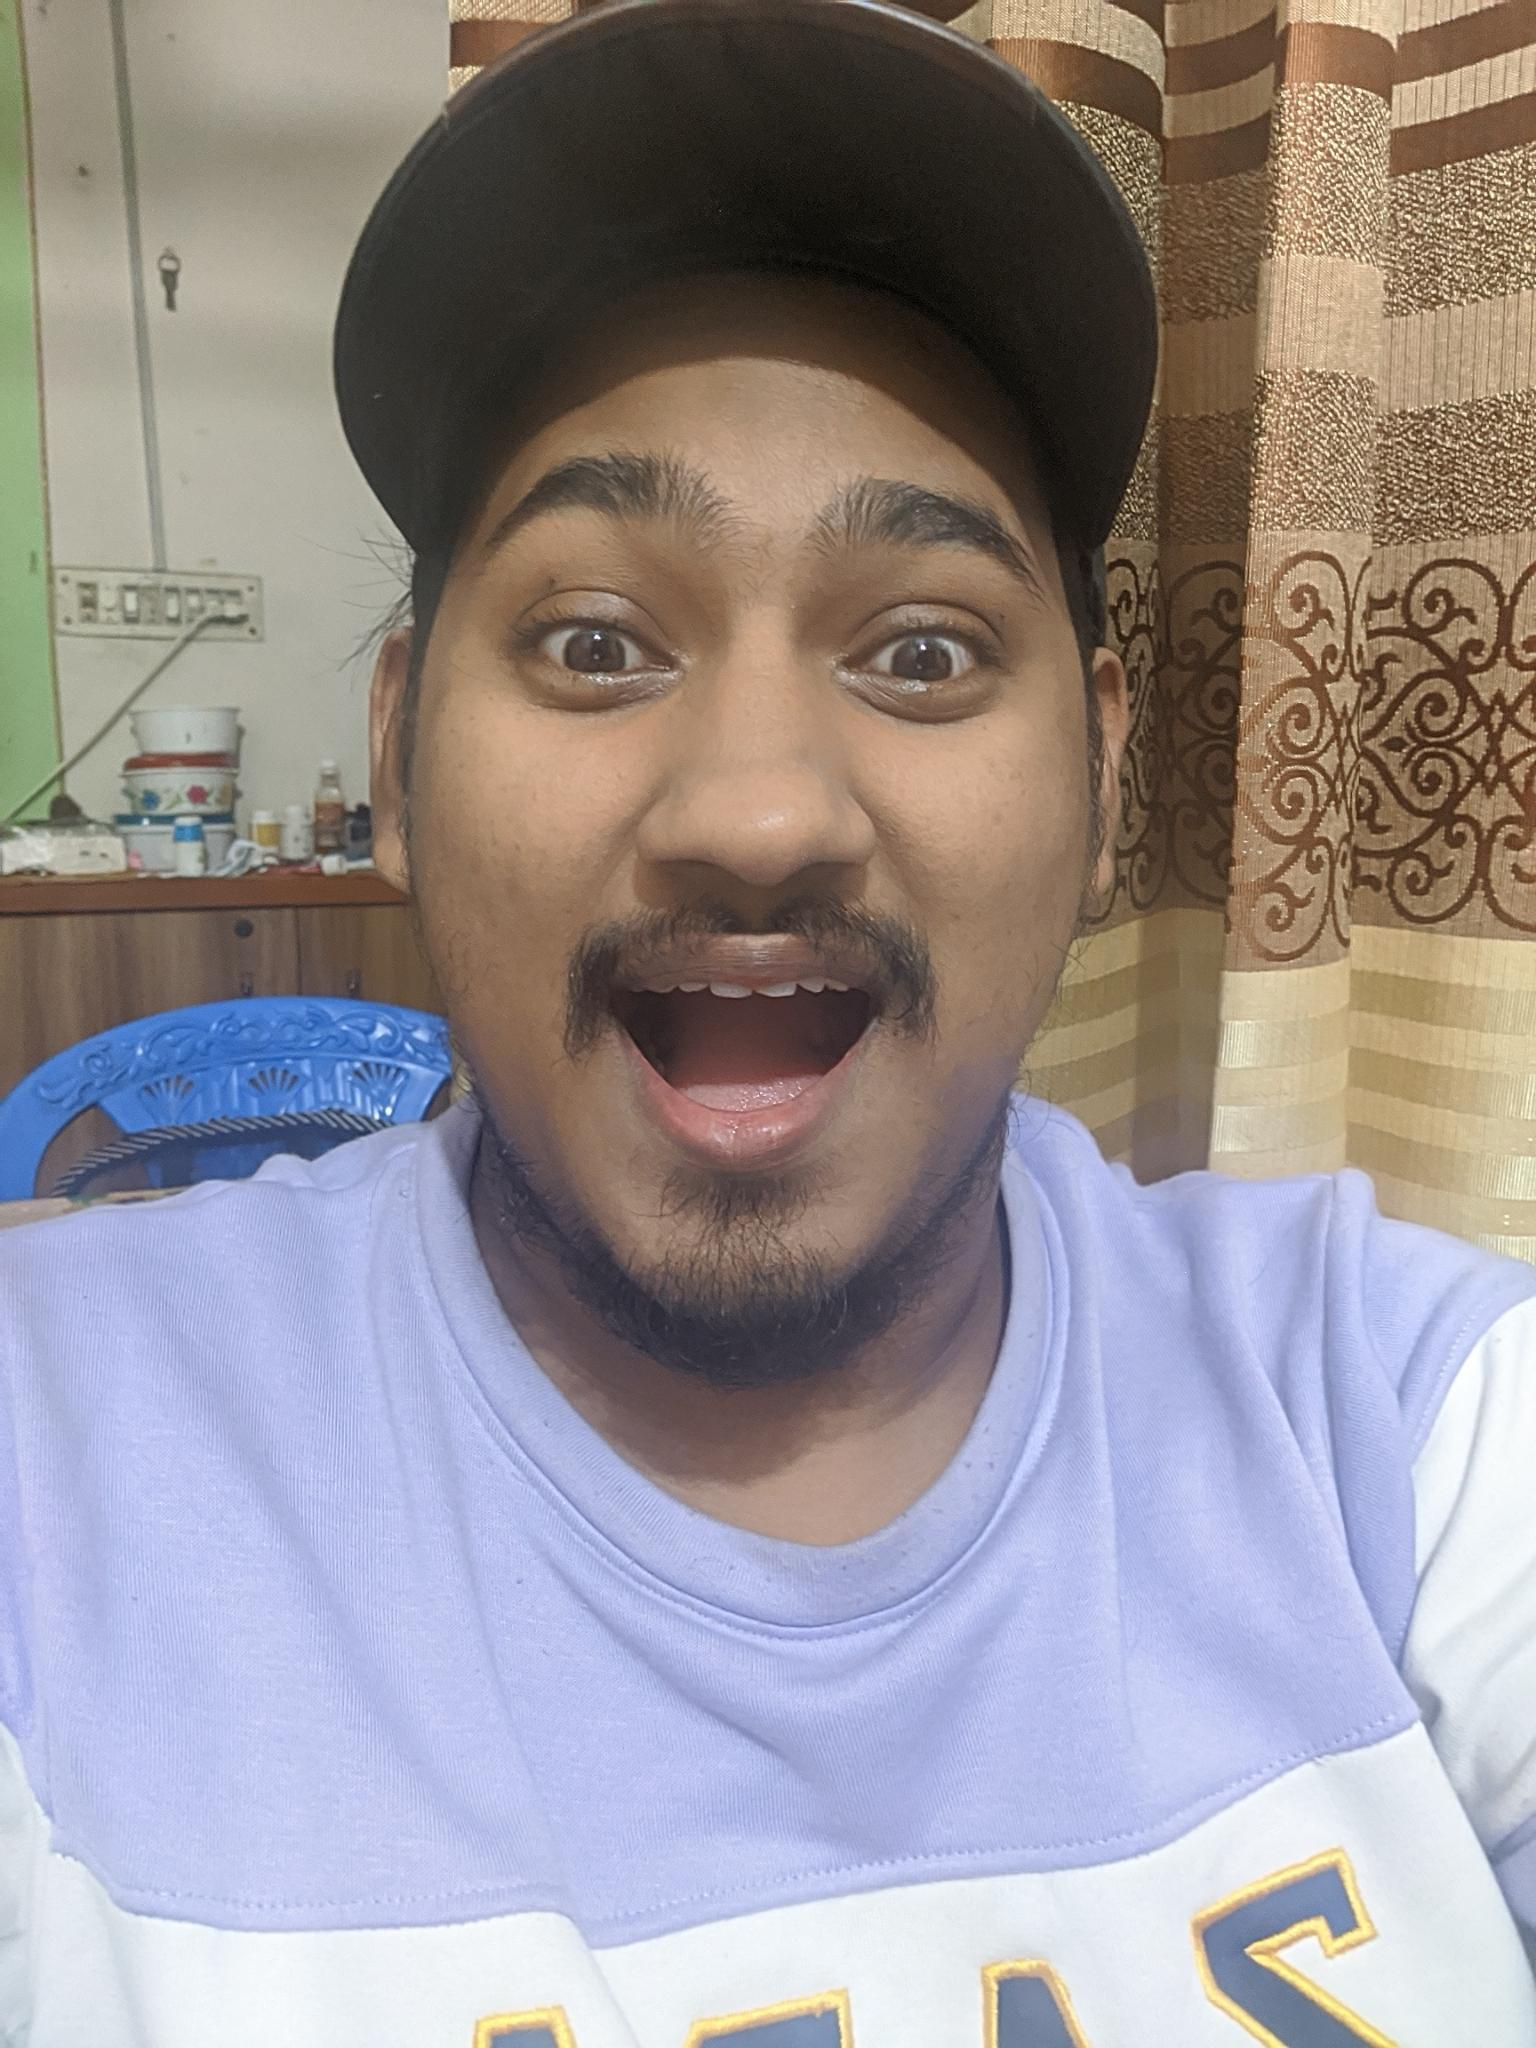Surprise: (419, 405, 1058, 1311)
